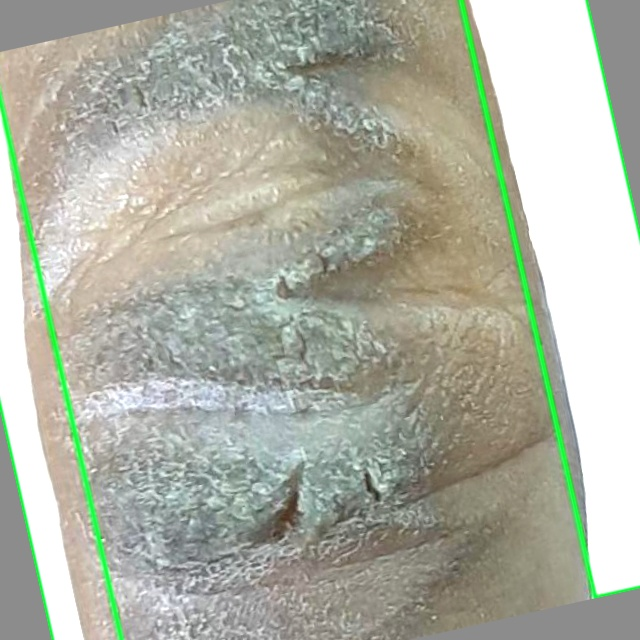Contact Dermatitis: (461, 0, 639, 597)
